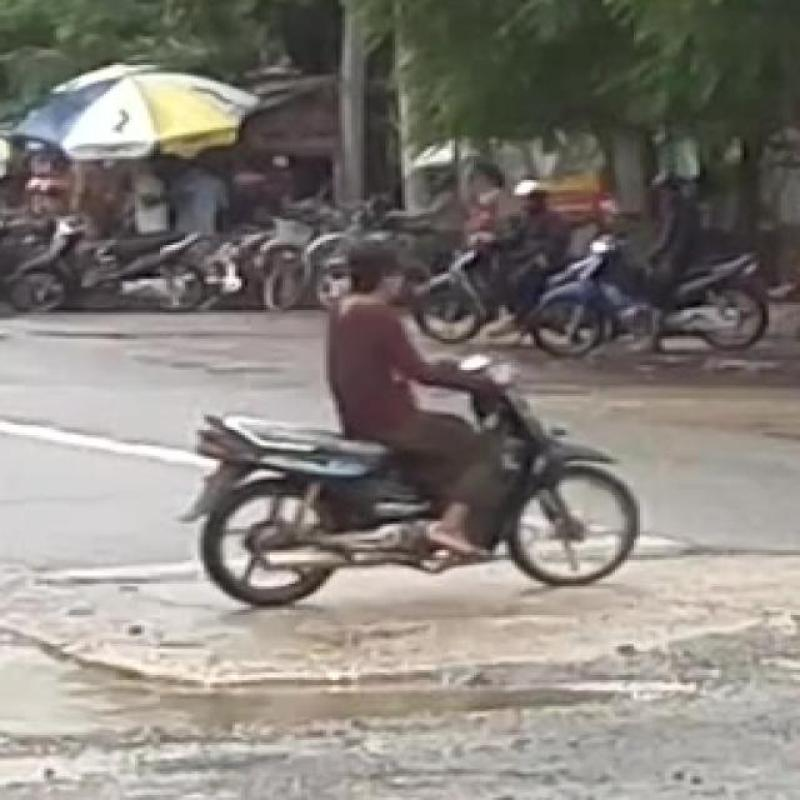nohelmet: (325, 216, 434, 320)
